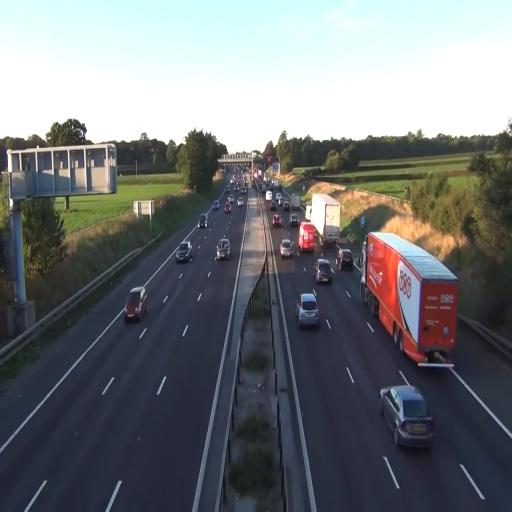vehicle: (362, 230, 458, 368), (379, 384, 435, 452), (310, 193, 340, 246), (320, 196, 340, 246), (124, 286, 148, 323), (297, 292, 320, 329), (298, 221, 318, 253), (313, 259, 333, 285), (175, 240, 193, 264), (338, 249, 353, 272), (216, 236, 230, 260), (280, 238, 292, 257)
